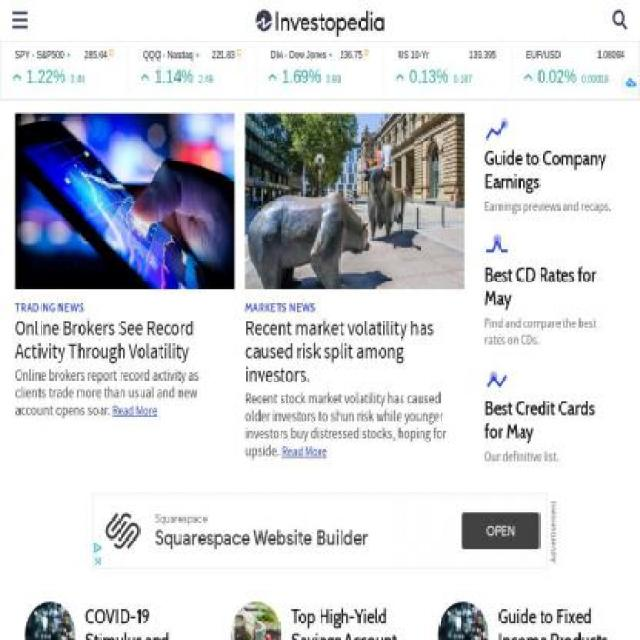button: (244, 113, 465, 462), (14, 113, 234, 421), (484, 113, 616, 201), (484, 229, 616, 317), (484, 363, 616, 451), (14, 601, 213, 640), (220, 601, 419, 640), (427, 601, 626, 640), (254, 10, 386, 30)
